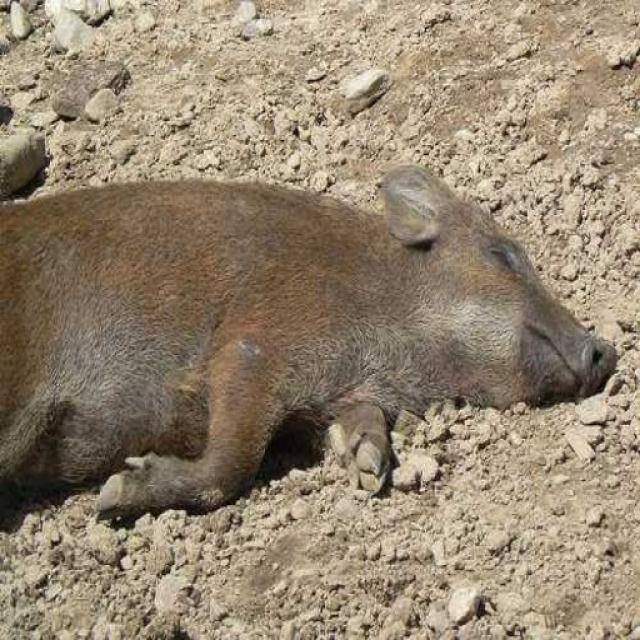pig: (0, 100, 616, 531)
